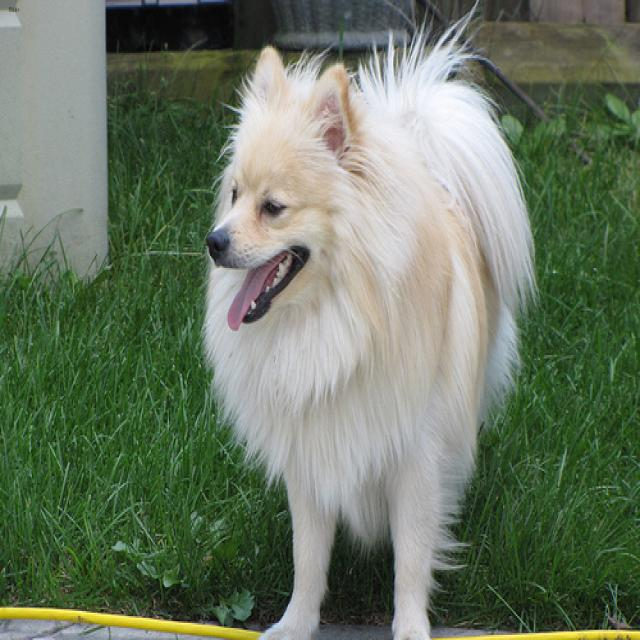dog-pomeranian: (188, 2, 554, 637)
